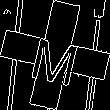M_N: (27, 25, 83, 85)
